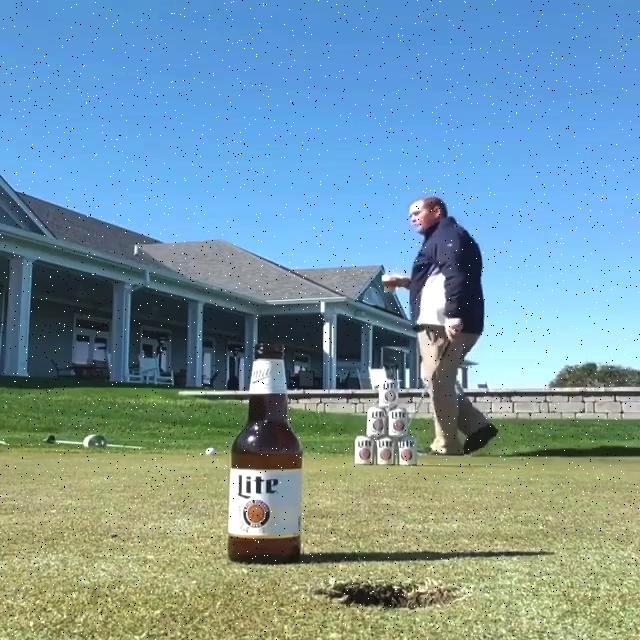ClubHandle: (407, 319, 464, 428)
GolfBall: (205, 447, 217, 455)
